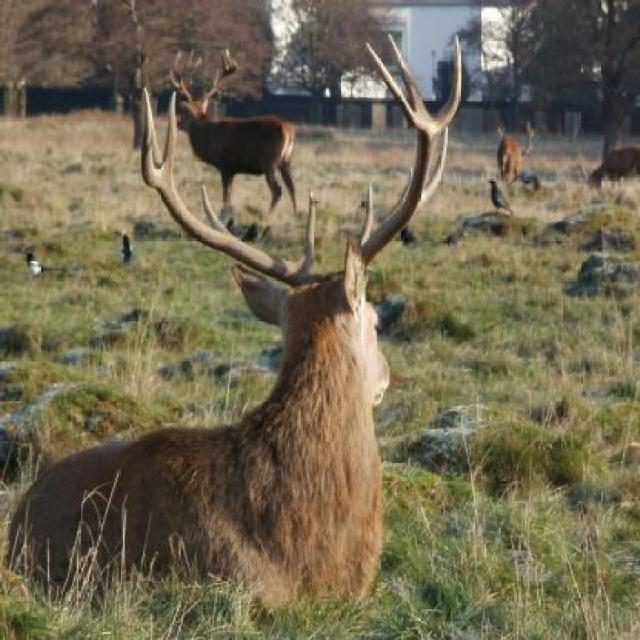Deer: (7, 32, 462, 610), (170, 48, 299, 220), (578, 142, 639, 192), (496, 120, 535, 186)
